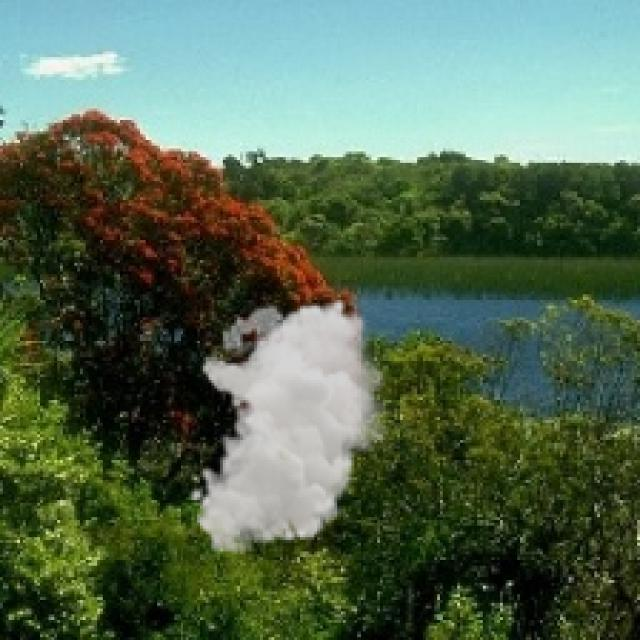smoke: (189, 297, 394, 554)
